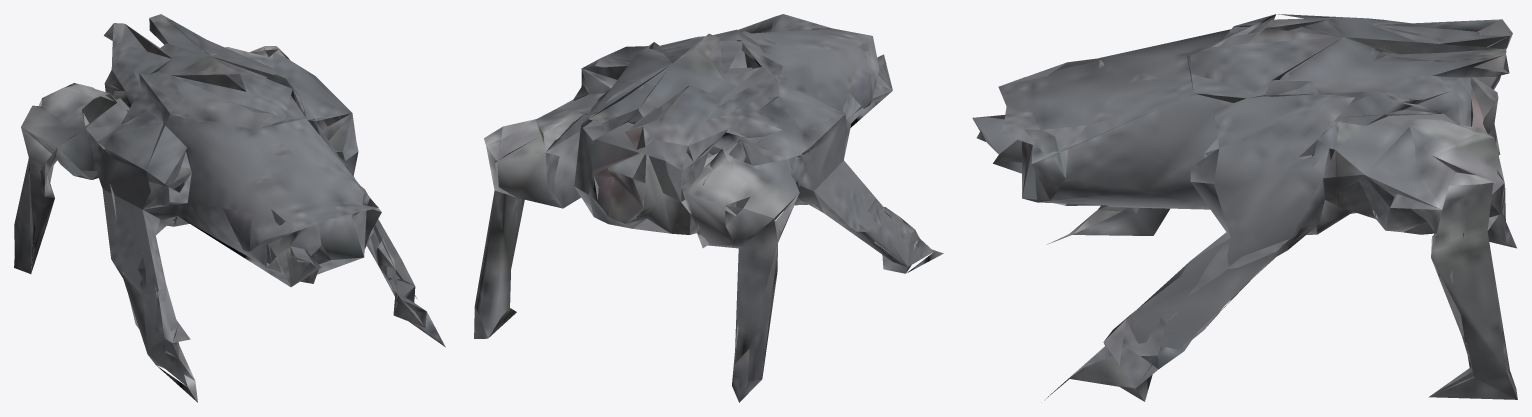
Rendered from enemy_turret_1035424432_lod0m.glb.
3 renders of one model, left to right at view 1: azimuth 30°, elevation 25°; view 2: azimuth 150°, elevation 25°; view 3: azimuth 270°, elevation 25°, orthographic. The views are drawn at different scales.
Bounding box in the file's own units: 4.26 × 3.65 × 5.91.
Materials: 1 (1 with a texture image).
